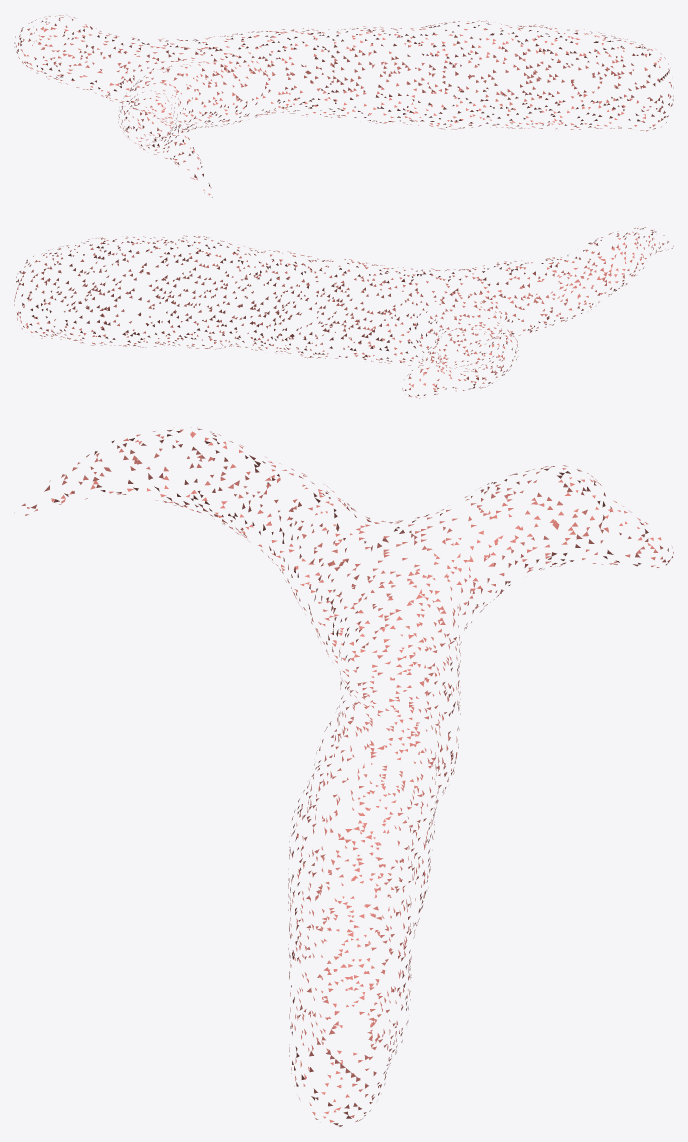
File: morph_001.glb
3 views of the same model, one above another, from view 1: azimuth 30°, elevation 25°; view 2: azimuth 150°, elevation 25°; view 3: azimuth 270°, elevation 25° (orthographic). The views are drawn at different scales.
Bounding box in the file's own units: 122 × 39.68 × 79.47.
